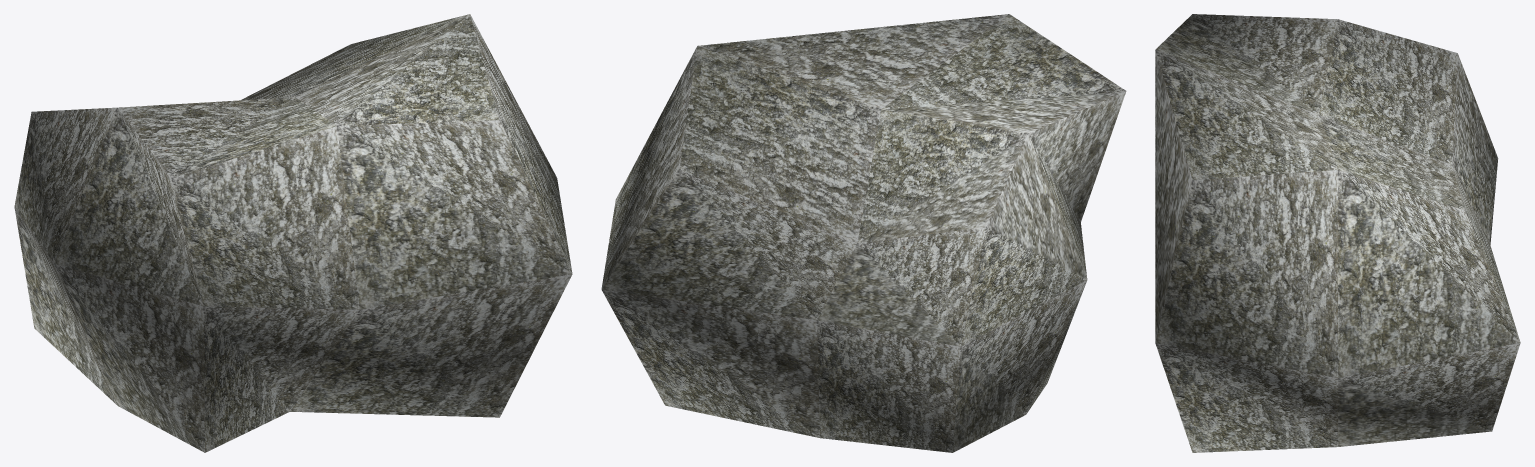
File: piedra3.fbx
3 renders of one model, left to right at view 1: azimuth 30°, elevation 25°; view 2: azimuth 150°, elevation 25°; view 3: azimuth 270°, elevation 25°, orthographic. The views are drawn at different scales.
Visible parts, largest first — view 1: Cube.003; view 2: Cube.003; view 3: Cube.003.
Boxes of the visible parts, bbox=[...] form: Cube.003: bbox=[14, 14, 572, 452]; Cube.003: bbox=[601, 14, 1126, 452]; Cube.003: bbox=[1155, 14, 1520, 452].
Size of the model in its own units: 174 by 118 by 120.
